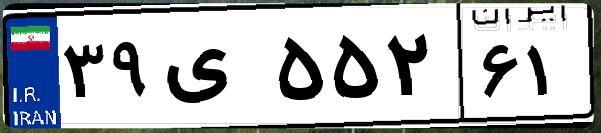1: (525, 38, 570, 115)
2: (385, 28, 445, 110)
3: (57, 26, 110, 100)
5: (270, 28, 330, 110), (330, 28, 385, 110)
6: (475, 38, 525, 113)
9: (110, 28, 158, 98)
ی: (158, 20, 270, 120)
